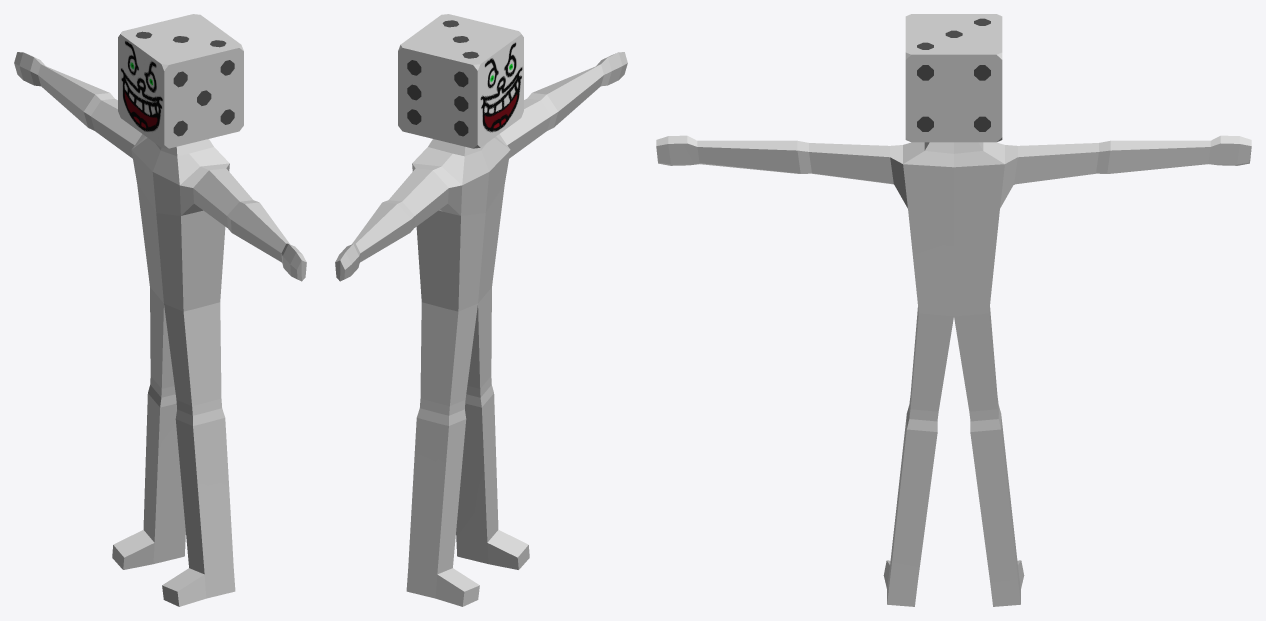
File: rngesus.fbx
The picture shows the model from 3 angles, left to right: view 1: azimuth 30°, elevation 25°; view 2: azimuth 150°, elevation 25°; view 3: azimuth 270°, elevation 25°; orthographic projection. The views are drawn at different scales.
Visible parts, largest first — view 1: Plane; view 2: Plane; view 3: Plane.
Boxes of the visible parts, bbox=[...] form: Plane: bbox=[14, 14, 306, 606]; Plane: bbox=[335, 14, 627, 606]; Plane: bbox=[656, 14, 1251, 606].
Bounding box in the file's own units: 180 × 1153 × 1109.
3 materials, 1 textured.
